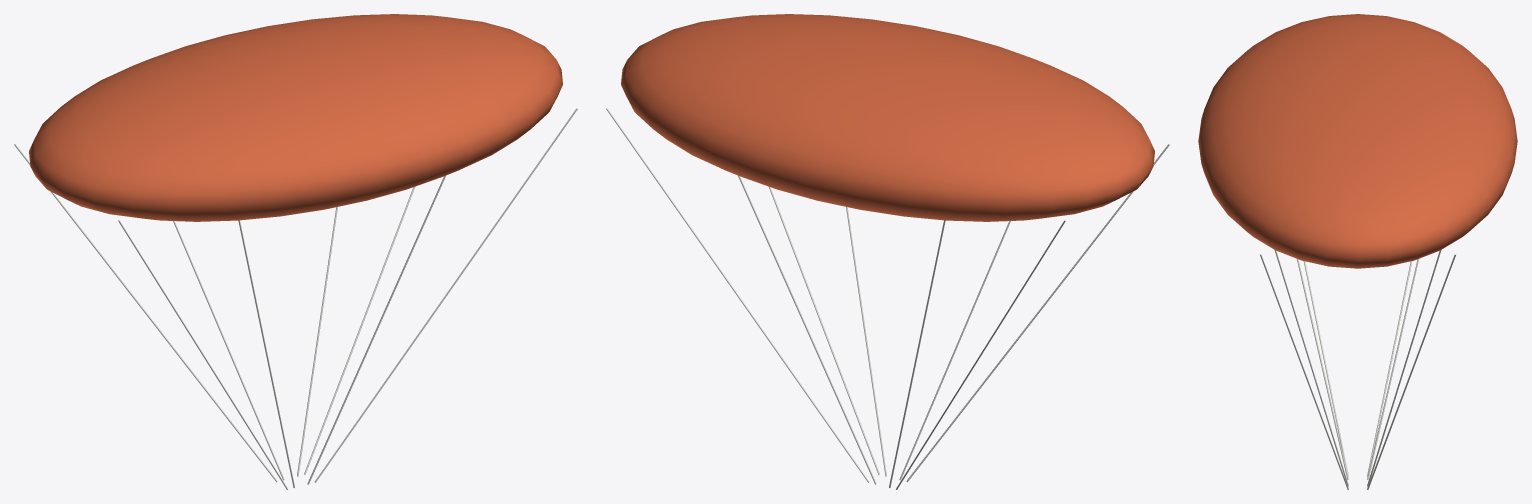
The model's file is Parachute.fbx.
3 renders of one model, left to right at view 1: azimuth 30°, elevation 25°; view 2: azimuth 150°, elevation 25°; view 3: azimuth 270°, elevation 25°, orthographic. The views are drawn at different scales.
Visible parts, largest first — view 1: Body.048; view 2: Body.048; view 3: Body.048.
Boxes of the visible parts, x1,y1,x2,y2 form: Body.048: (14,14,577,489); Body.048: (606,14,1169,489); Body.048: (1198,14,1517,489).
Bounding box in the file's own units: 6.2 × 4.91 × 3.6.
